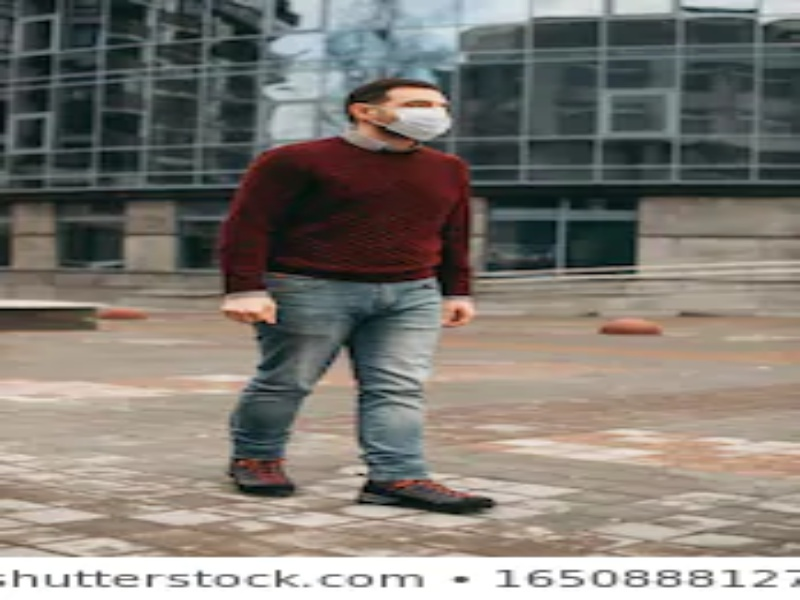ManaoArotava: (332, 48, 463, 169)
